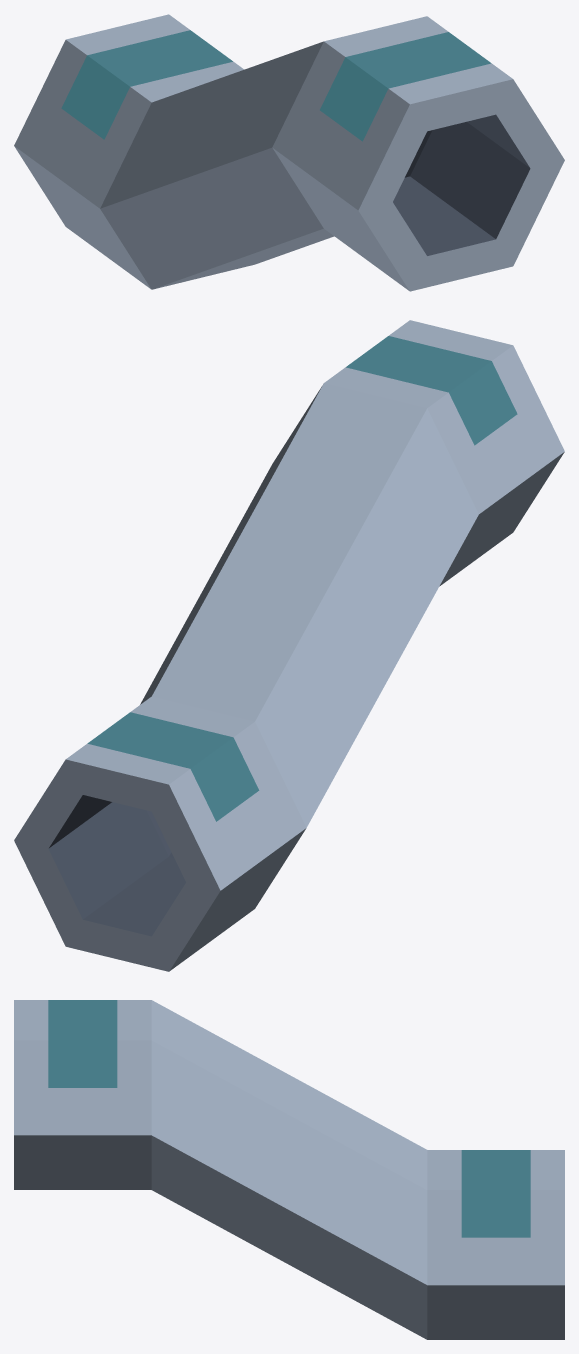
File: pipe_rampLarge.glb
3 views of the same model, one above another, from view 1: azimuth 30°, elevation 25°; view 2: azimuth 150°, elevation 25°; view 3: azimuth 270°, elevation 25° (orthographic). The views are drawn at different scales.
Parts seen in each view (by area): view 1: pipe_rampLarge; view 2: pipe_rampLarge; view 3: pipe_rampLarge.
Part boxes in pixels (x1=…): pipe_rampLarge: x1=14, y1=14, x2=564, y2=291; pipe_rampLarge: x1=14, y1=320, x2=564, y2=971; pipe_rampLarge: x1=14, y1=1000, x2=564, y2=1339.
Size of the model in its own units: 0.6928 by 1.2 by 2.
